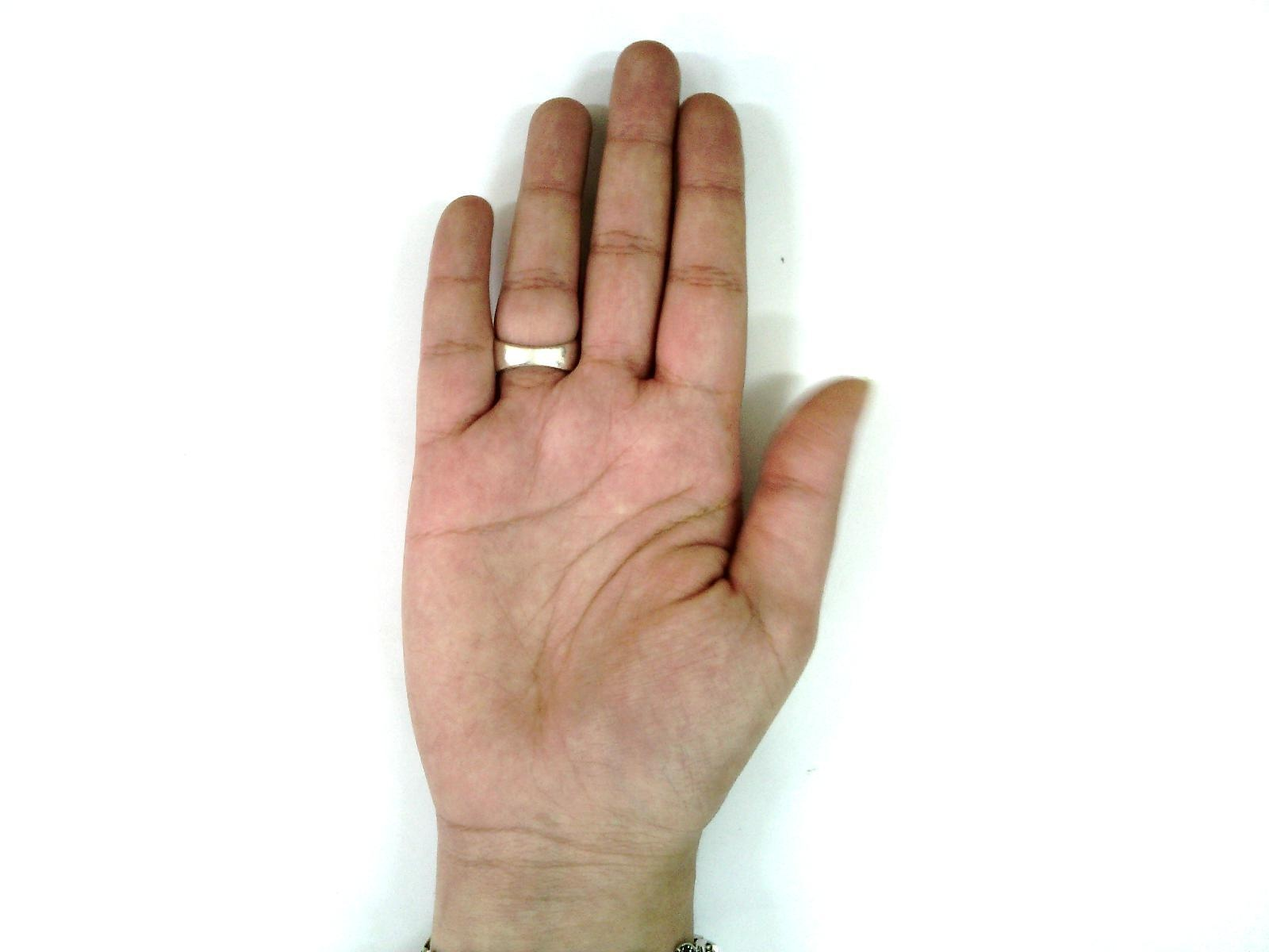open_palm: (396, 39, 878, 845)
